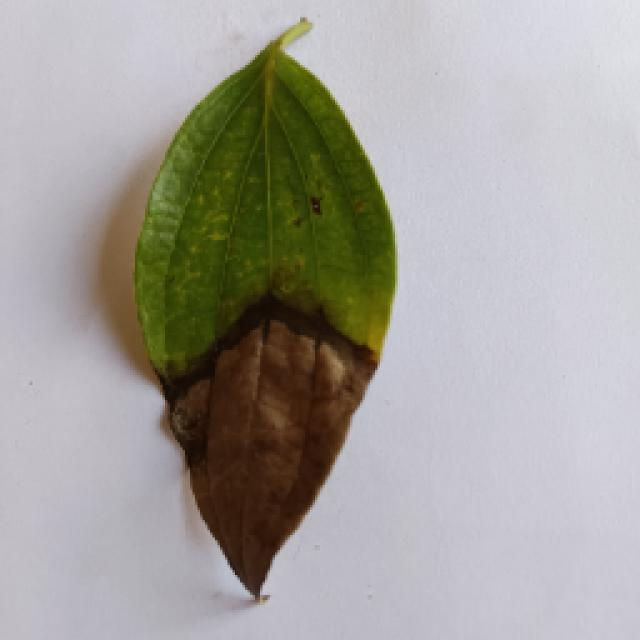footrot: (128, 22, 402, 600)
